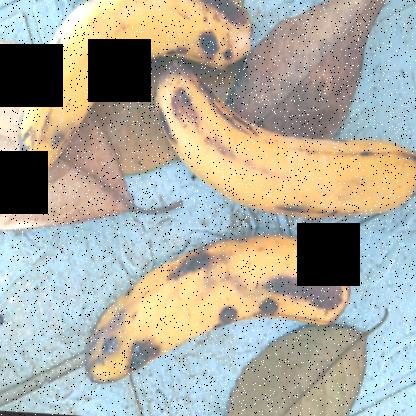overripe: (70, 217, 358, 397)
ripe: (14, 1, 268, 174), (123, 76, 415, 220)
